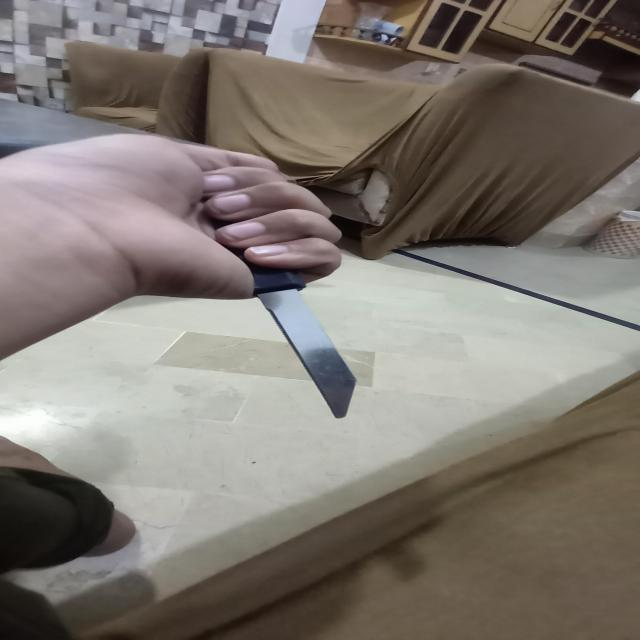faca: (244, 262, 360, 422)
